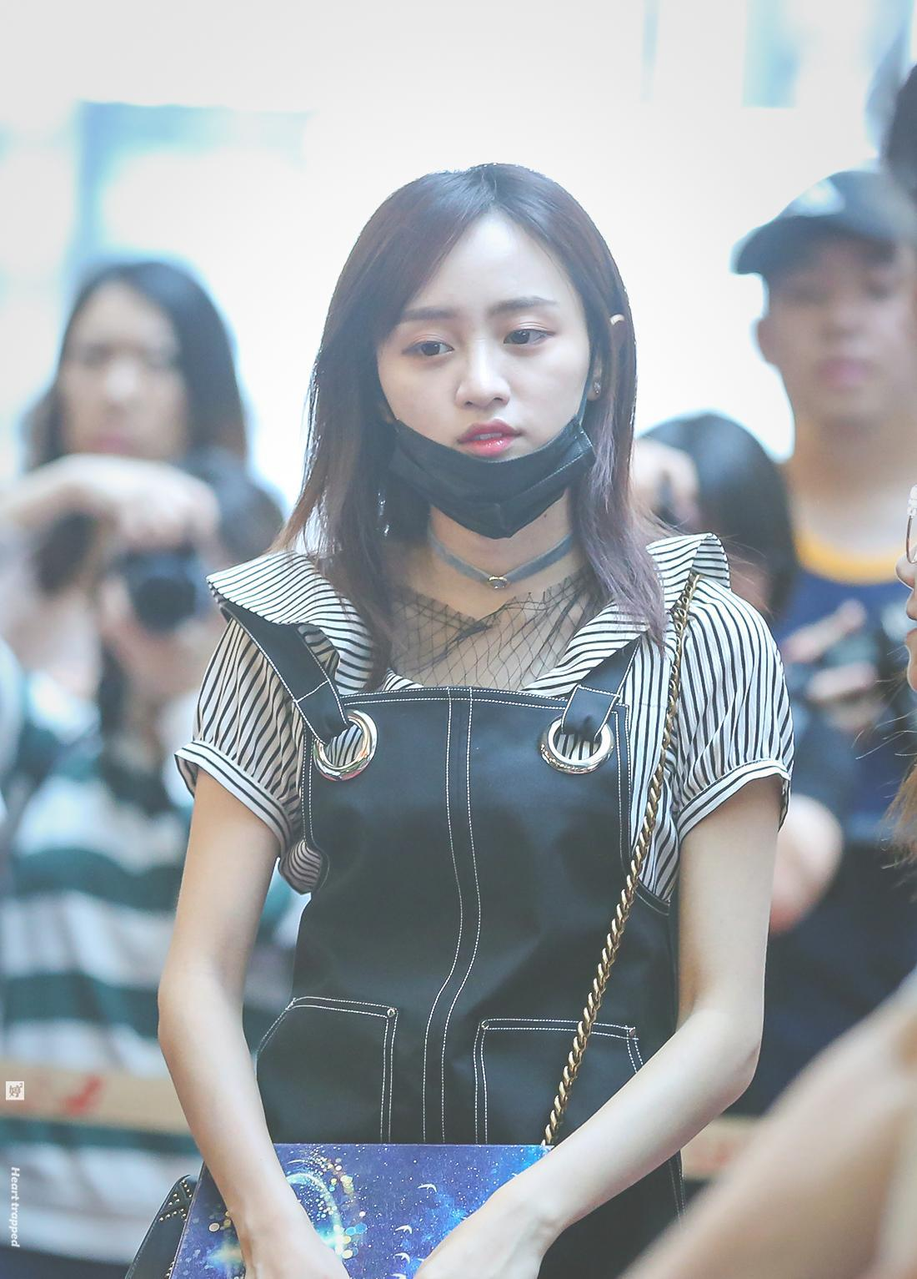NONE: (775, 254, 917, 417), (54, 336, 188, 481)
WRONG: (372, 288, 604, 520)
